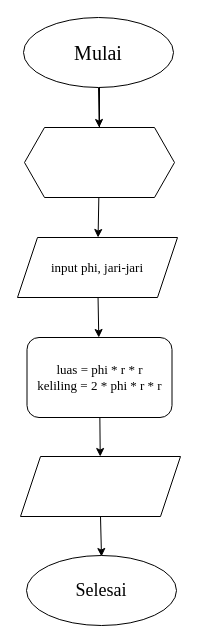
Some shapes in this 198 by 643 pixel diagram are drawn without their labels. The shapes that lost their labels are listed below. From the top down, each one's box as (x1, y1, x2, y2) in pixels, then its label:
(24, 126, 174, 198): int, double, phi, jari-jari, luas, keliling
(20, 456, 180, 516): Hasil luas dan keliling lingkaran
